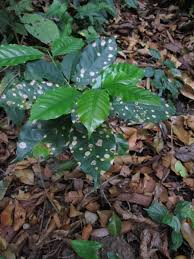ojo de gallo: (13, 77, 180, 161)
